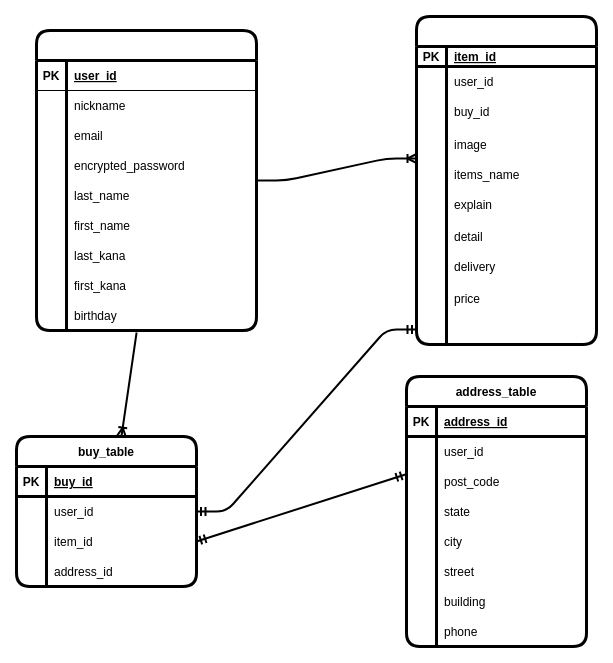
Some shapes in this 613 by 663 pixel diagram are drawn without their labels. Here are the shapes that lost their labels. From the top down, the box of each, then its label:
(34, 28, 258, 332): users_table
(414, 14, 598, 346): items_table
